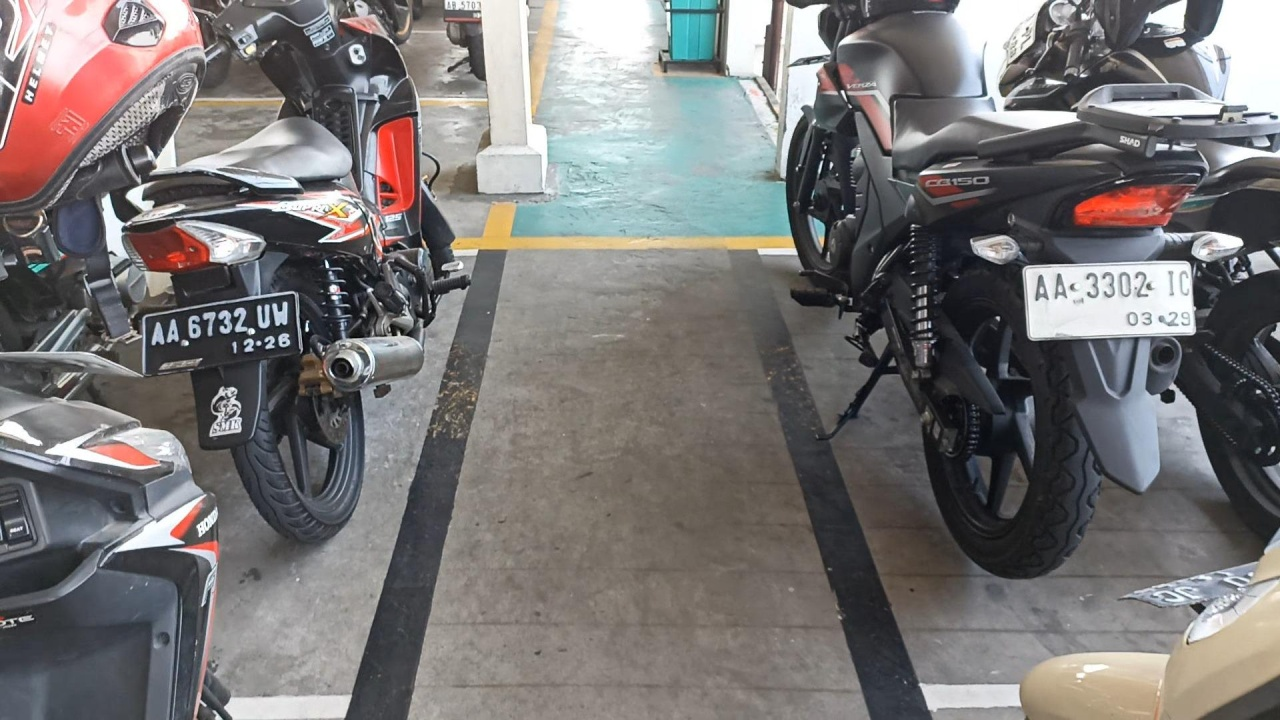plate: (143, 290, 304, 378), (1024, 261, 1197, 340)
